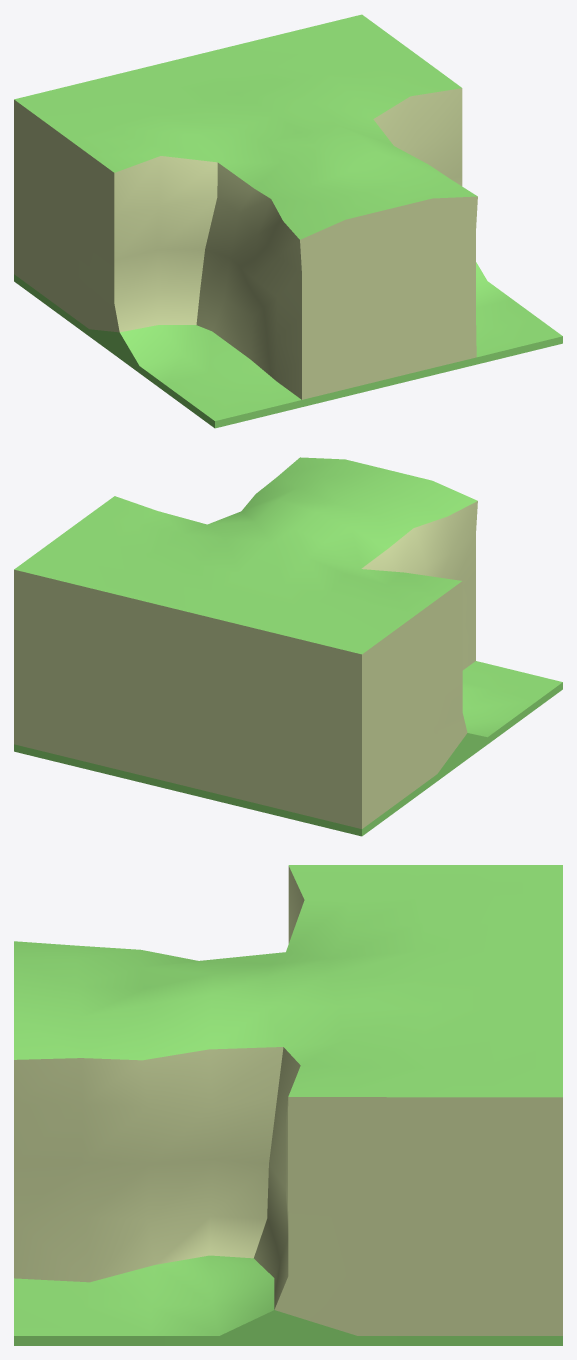
File: wall_straight_join1_1.glb
The picture shows the model from 3 angles, top to bottom: view 1: azimuth 30°, elevation 25°; view 2: azimuth 150°, elevation 25°; view 3: azimuth 270°, elevation 25°; orthographic projection. The views are drawn at different scales.
Parts seen in each view (by area): view 1: wall_slim_join1_1; view 2: wall_slim_join1_1; view 3: wall_slim_join1_1.
Part boxes in pixels (x1,y1,x2,y2): wall_slim_join1_1: [14, 14, 562, 428]; wall_slim_join1_1: [14, 457, 562, 836]; wall_slim_join1_1: [14, 865, 562, 1345].
Size of the model in its own units: 2 by 1.05 by 2.
